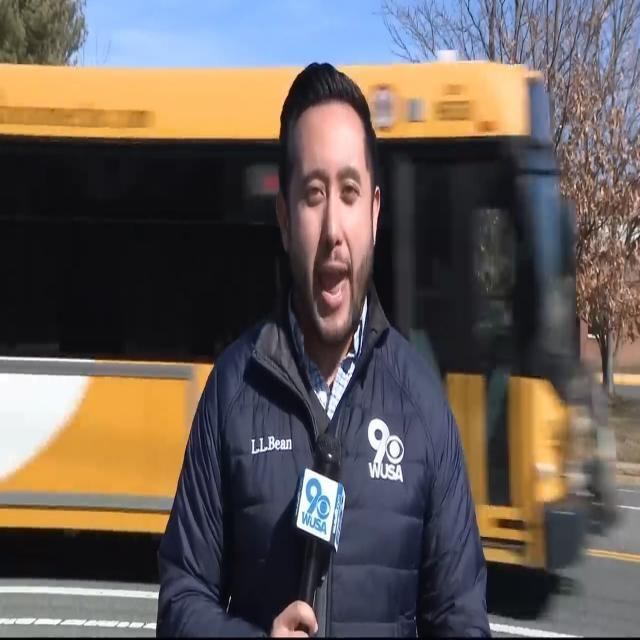non-fight: (220, 58, 489, 640)
